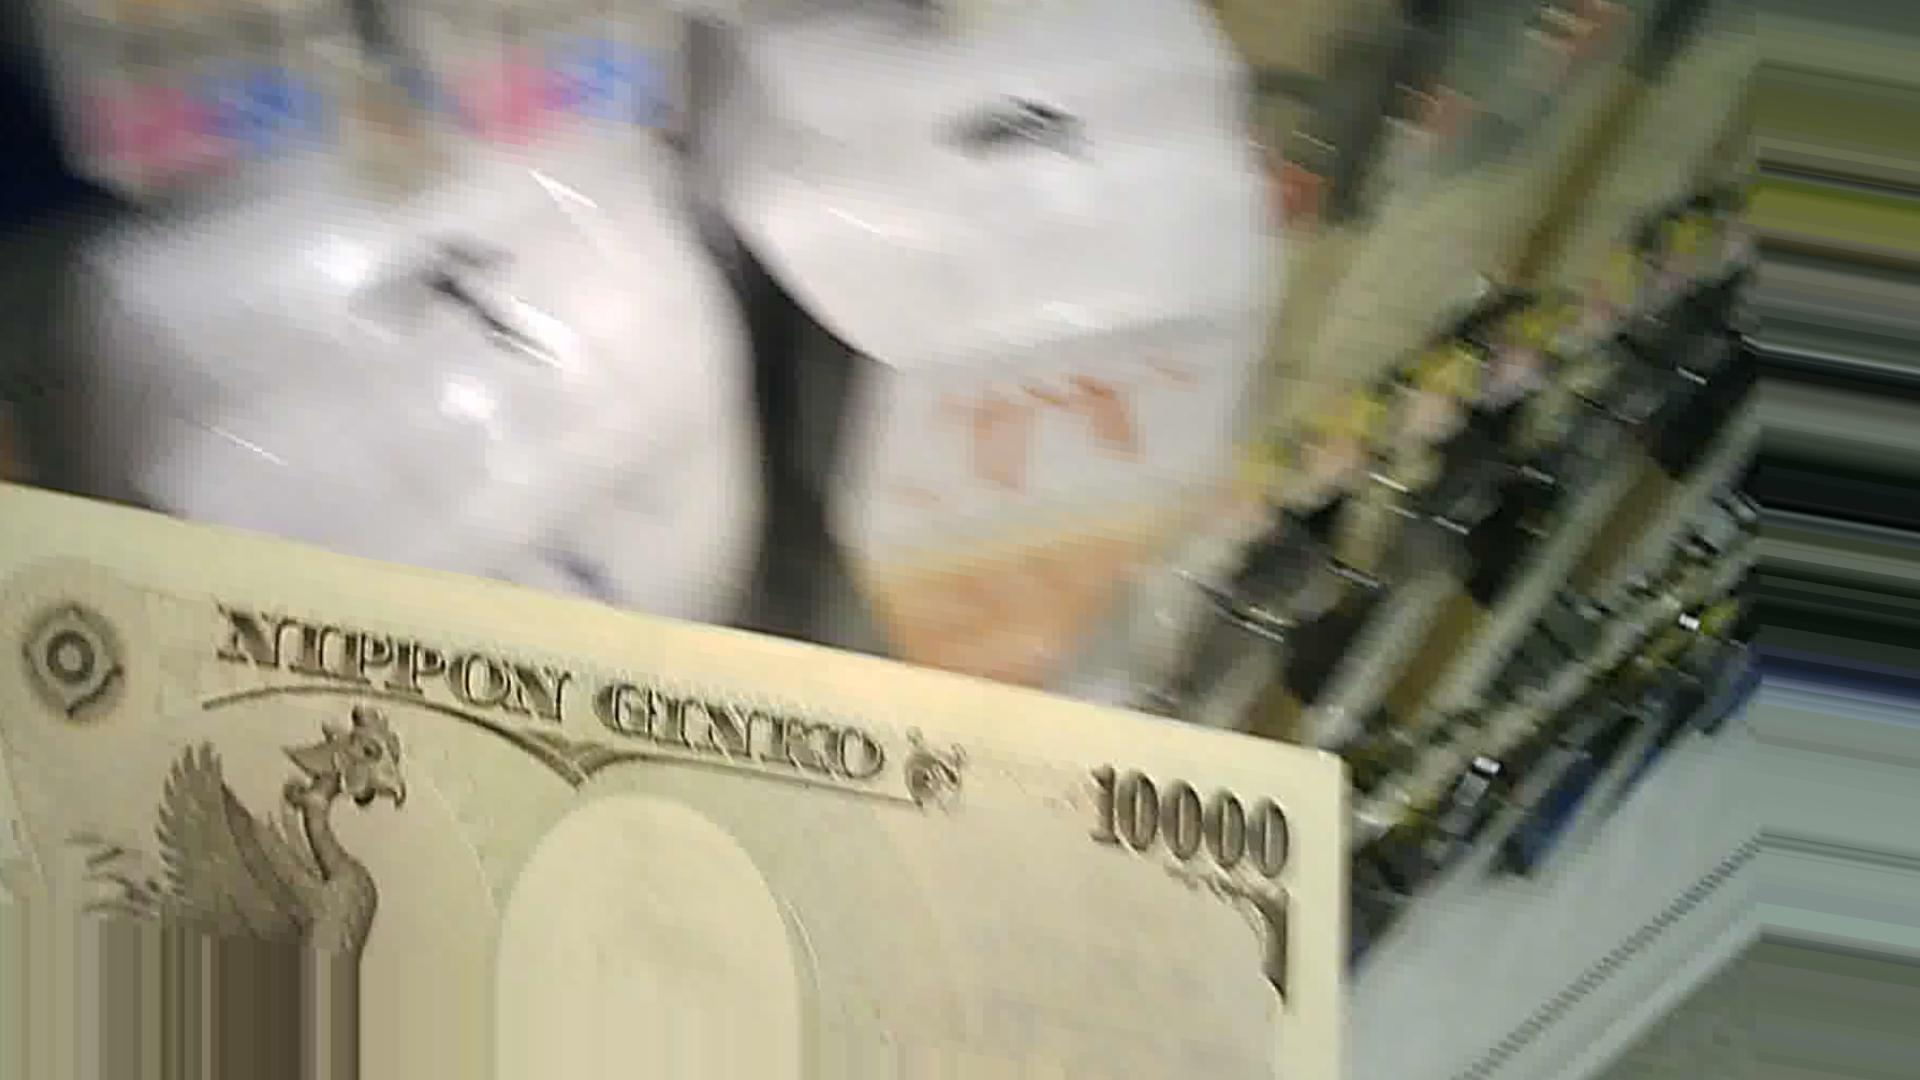10,000 Yen: (33, 463, 1335, 1079)
